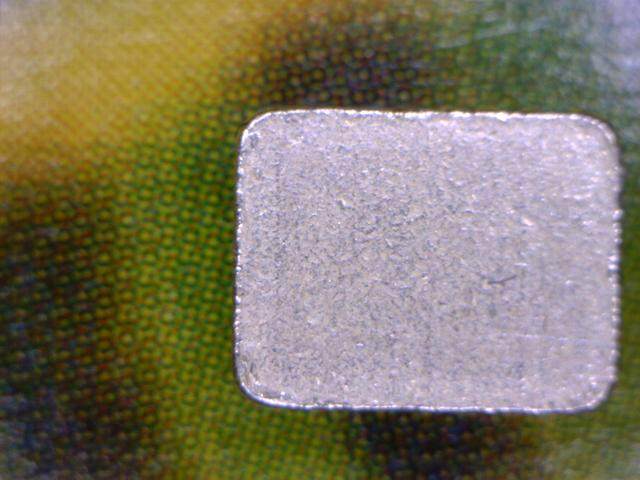ok: (231, 104, 626, 413)
